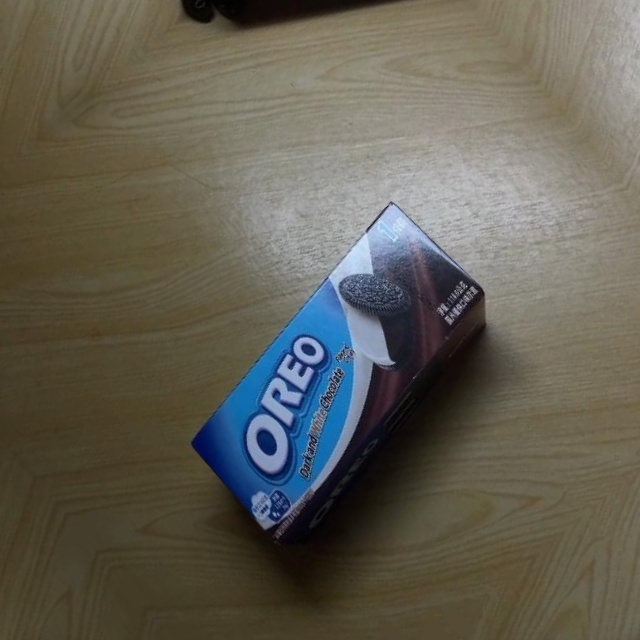Oreo: (151, 188, 552, 578)
